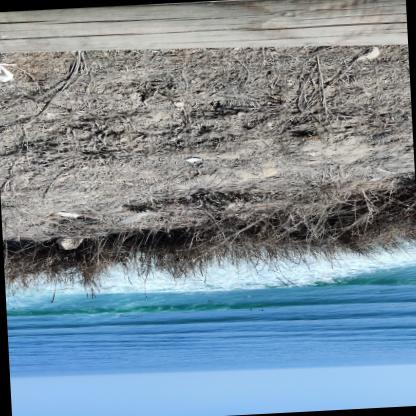Plastic: (116, 210, 156, 223)
Waste: (0, 65, 12, 80), (55, 211, 78, 216), (183, 156, 200, 161), (0, 61, 16, 64)
